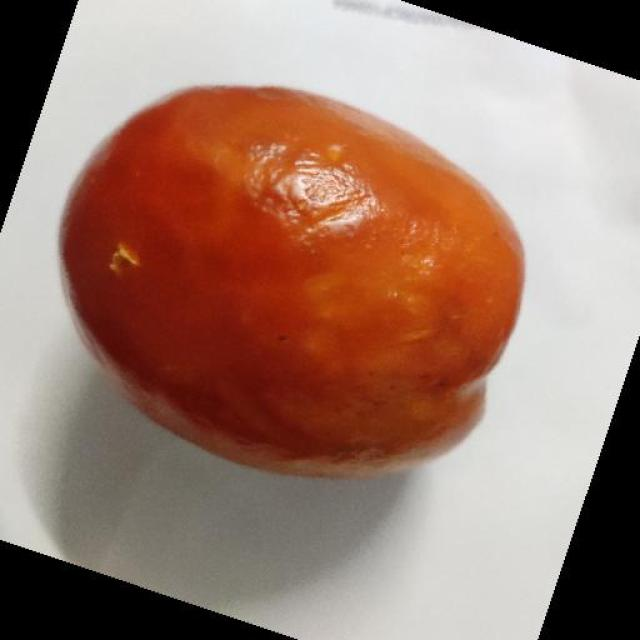Stale_tomato: (77, 86, 499, 472)
